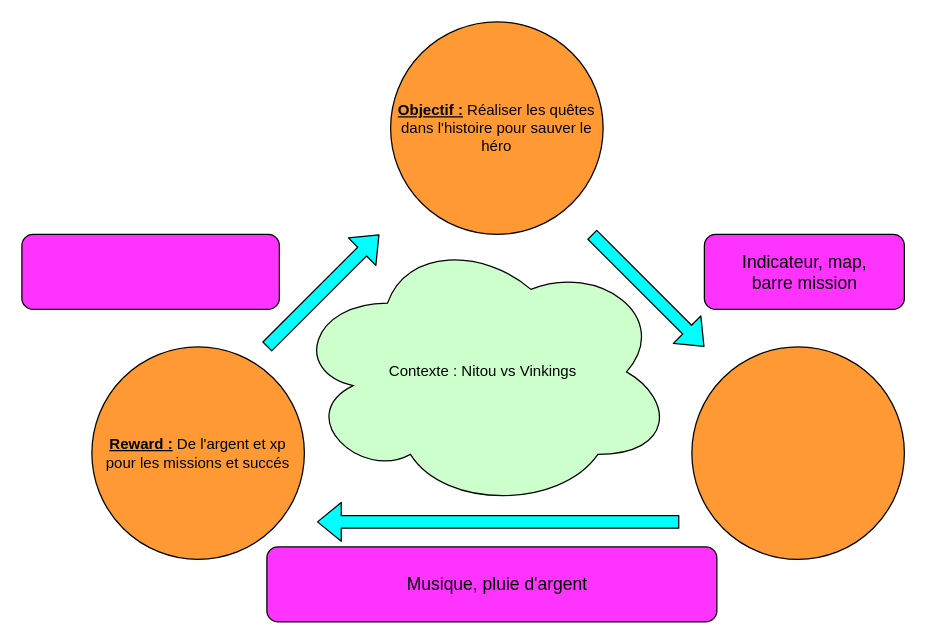
Some shapes in this 926 by 644 pixel diagram are drawn without their labels. The centre of each missing label's shape, as x and y in pixels:
"Avancement de l'histoire, déblocage compétences" belongs at pixel 150 271.
"Challenge : Réussir l'infiltration et récolté les éléments" belongs at pixel 797 452.
